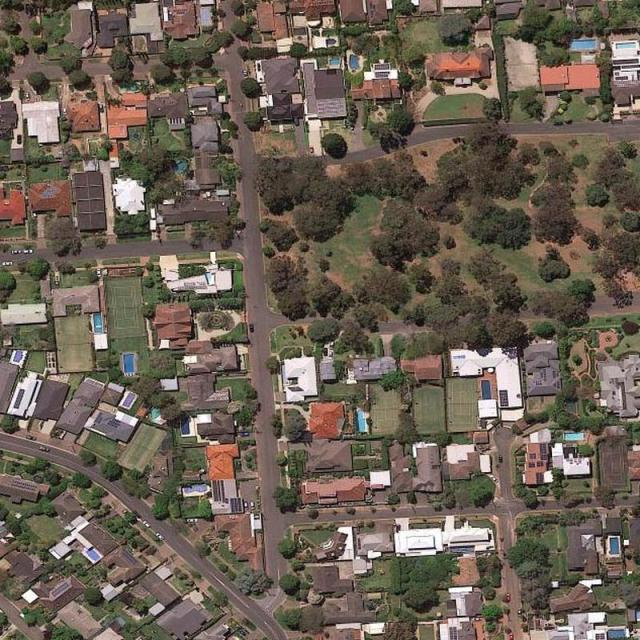vehicle: (490, 474, 498, 483), (133, 510, 142, 518), (26, 434, 36, 441), (39, 446, 50, 452), (156, 532, 164, 540), (142, 521, 150, 528), (240, 430, 248, 437), (11, 250, 22, 254), (507, 633, 513, 640), (187, 518, 197, 522), (244, 502, 249, 510), (250, 323, 254, 333), (329, 342, 334, 350), (62, 107, 67, 115), (244, 70, 248, 79), (250, 501, 254, 510), (25, 93, 30, 100), (498, 455, 502, 463), (506, 594, 510, 602), (518, 609, 522, 617), (323, 348, 327, 356), (2, 262, 12, 265), (329, 352, 333, 359), (23, 250, 32, 253)
